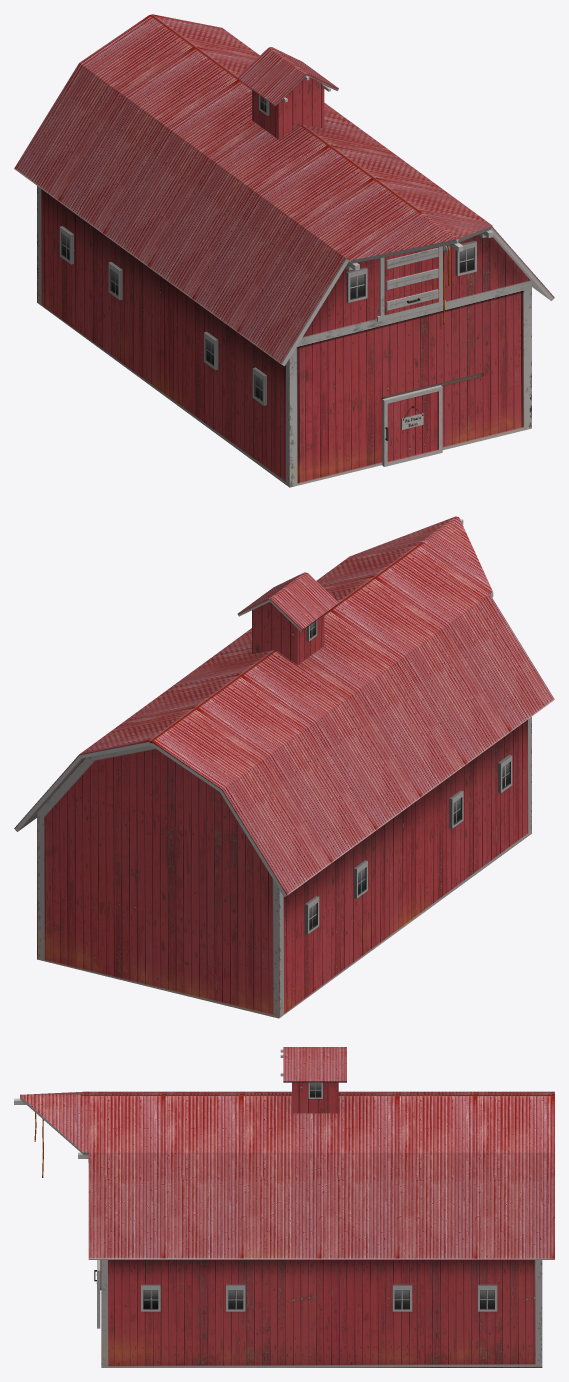
Rendered from Barn.fbx.
The picture shows the model from 3 angles, top to bottom: view 1: azimuth 30°, elevation 25°; view 2: azimuth 150°, elevation 25°; view 3: azimuth 270°, elevation 25°; orthographic projection. The views are drawn at different scales.
Visible parts, largest first — view 1: Barn; view 2: Barn; view 3: Barn.
Part boxes in pixels (box(x1,y1,x2,y2)): Barn: box(14, 14, 554, 487); Barn: box(14, 516, 554, 1018); Barn: box(14, 1047, 554, 1367).
Bounding box in the file's own units: 97.79 × 105 × 192.
1 material, 1 textured.
